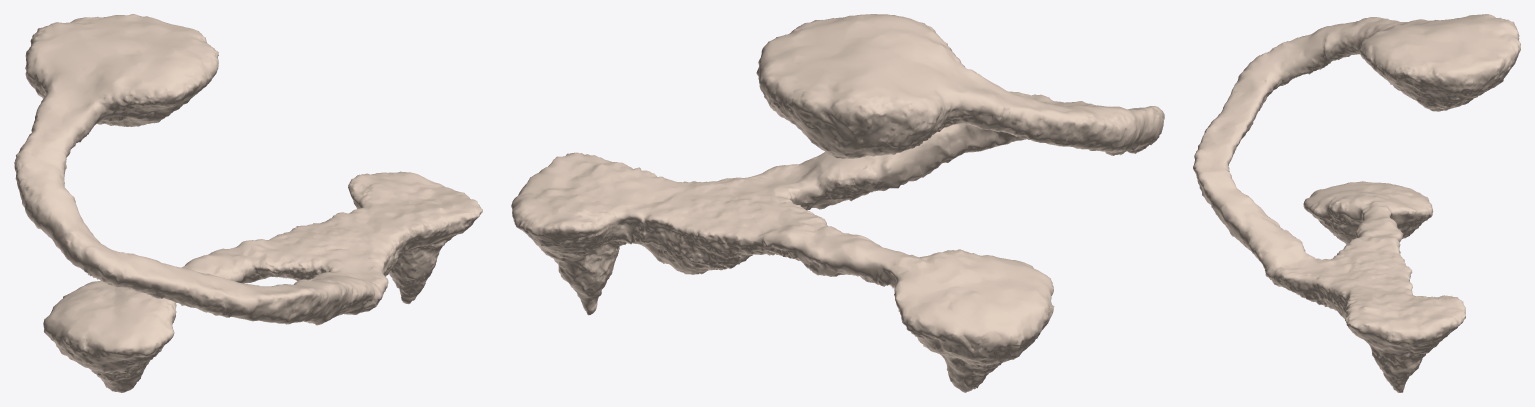
File: VierteInsel.fbx
3 renders of one model, left to right at view 1: azimuth 30°, elevation 25°; view 2: azimuth 150°, elevation 25°; view 3: azimuth 270°, elevation 25°, orthographic. The views are drawn at different scales.
Parts seen in each view (by area): view 1: sphere_Copy-reduced; view 2: sphere_Copy-reduced; view 3: sphere_Copy-reduced.
Boxes of the visible parts, x1,y1,x2,y2 form: sphere_Copy-reduced: (14, 14, 482, 392); sphere_Copy-reduced: (511, 14, 1164, 392); sphere_Copy-reduced: (1193, 14, 1520, 392).
Size of the model in its own units: 4347 by 2692 by 3105.
